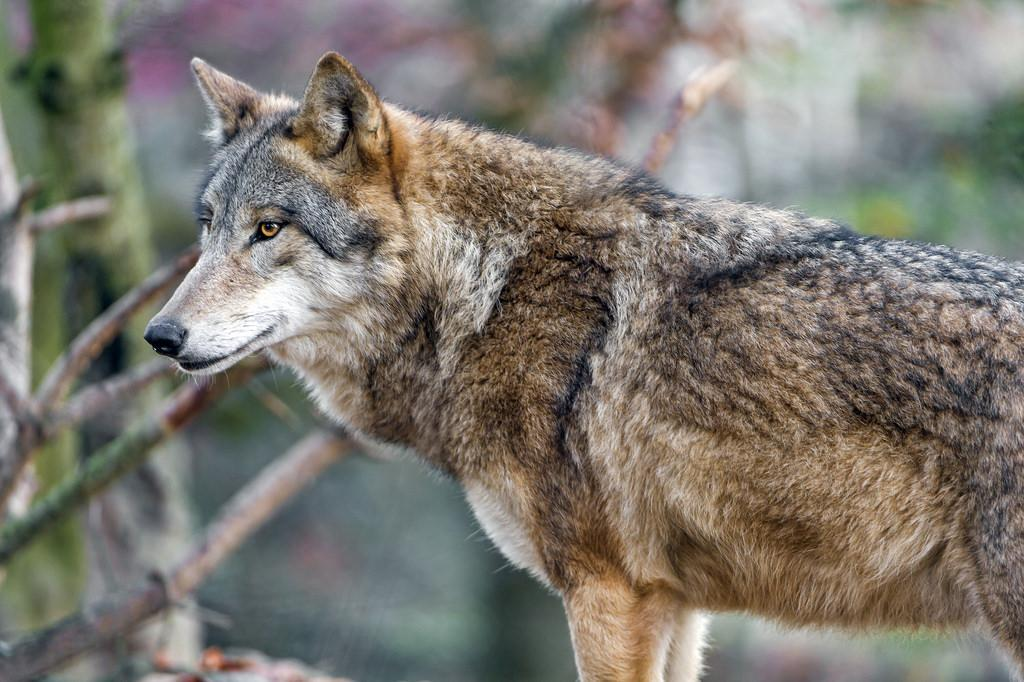Wolf: (145, 49, 1024, 679)
